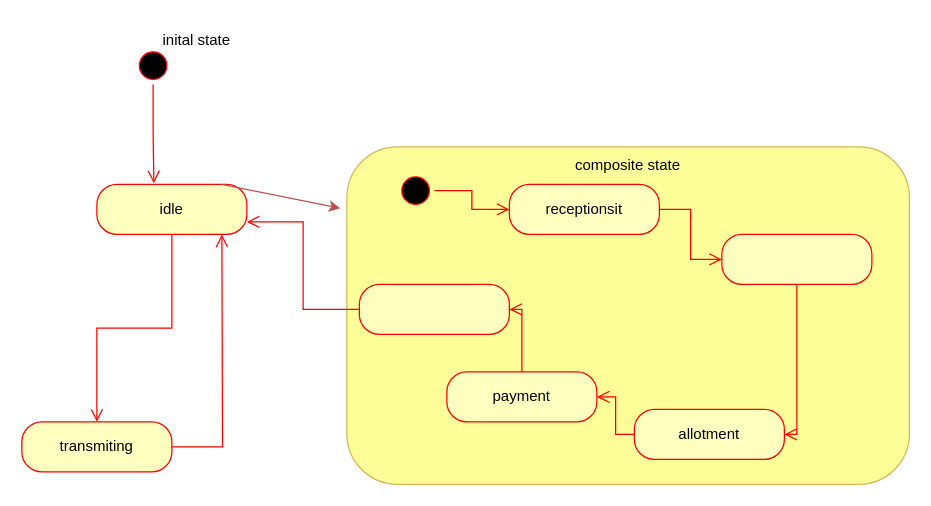
Image size: 931x506. Some labels were removed from this diagram. The box of each missing label's shape, as (x1, y1, x2, y2) in pixels:
check-in: (358, 283, 509, 334)
processing: (721, 233, 872, 284)
